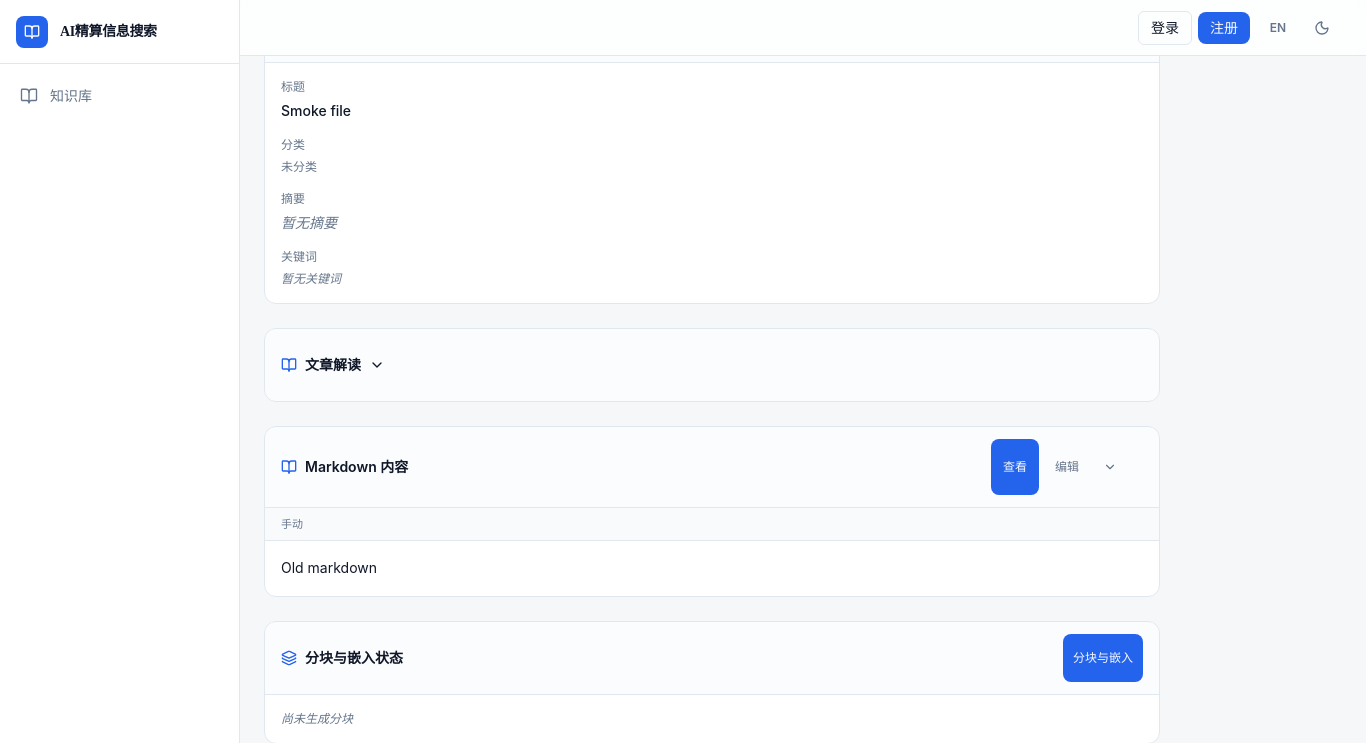
Test case: re-reads and removes an interpretation after a successful Markdown save
(page scrolled)
Check: the element with test id "article-interpretation" is shown, box [264,328,1160,402]
Step 1. Click the button with test id "button-md-edit" → coordinates (1067, 466), box [1043,438,1091,494]
(page scrolled)
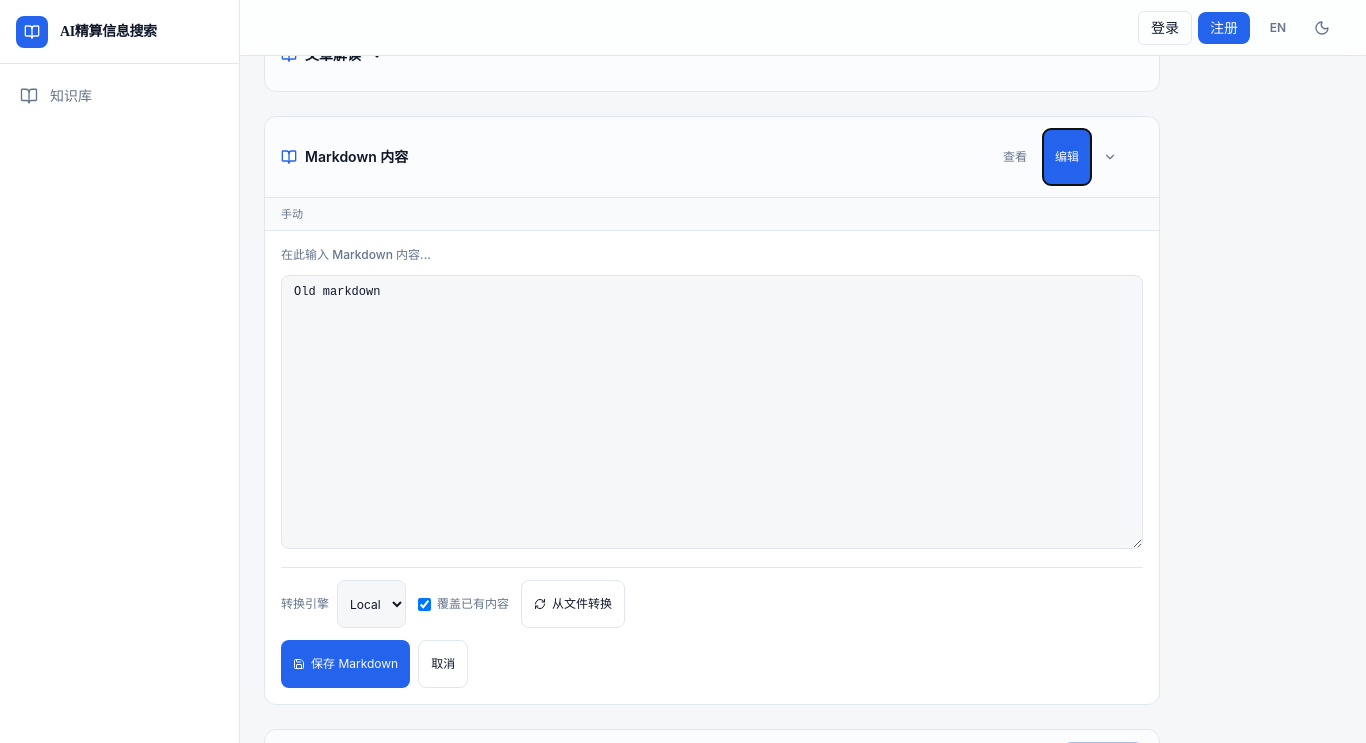
Step 2. Replace the text in the text box with test id "input-markdown" with "Updated markdown" → coordinates (712, 412), box [281,275,1143,549]
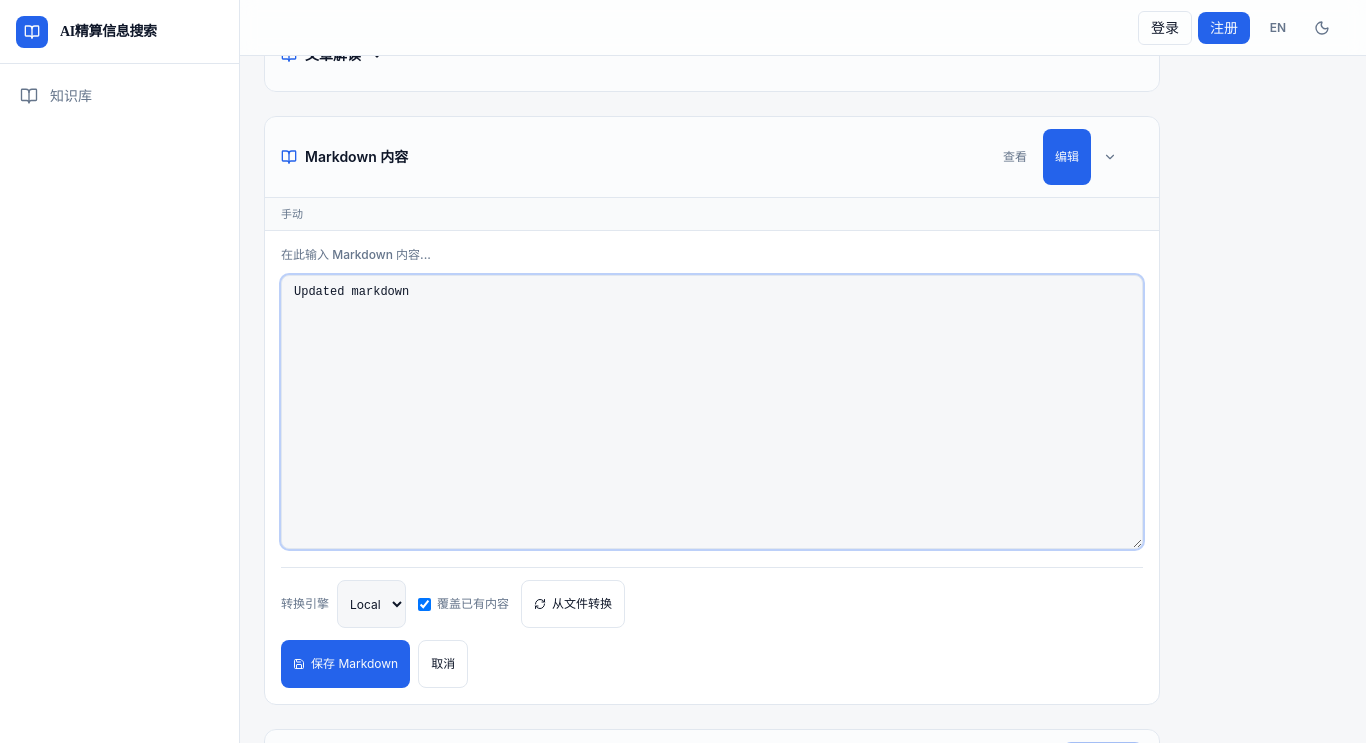
Step 3. Click the button with test id "button-save-md" → coordinates (346, 664), box [281,640,410,688]
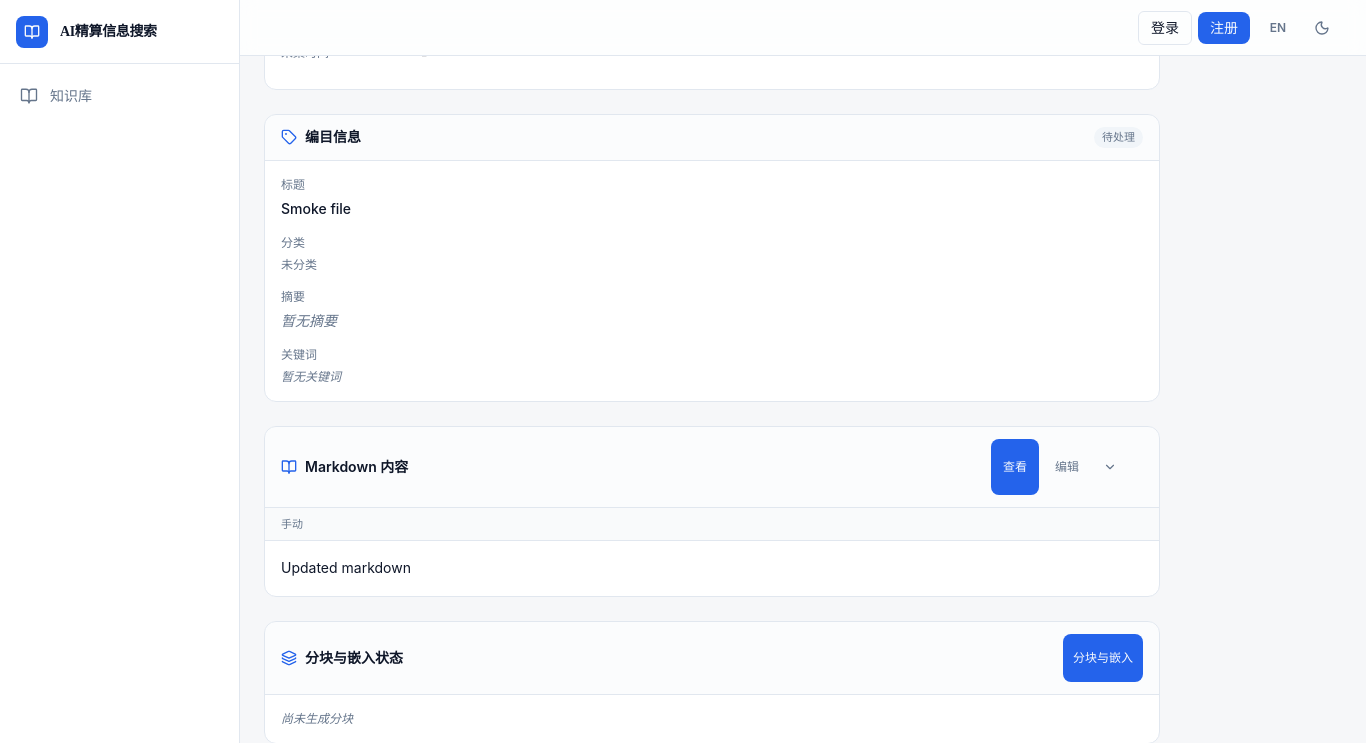
Check: the element with test id "article-interpretation" is gone
